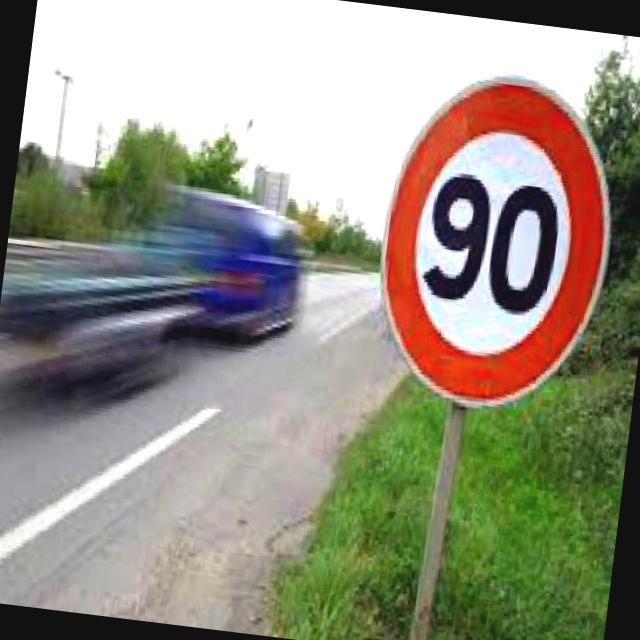Ograniczenie predkosci do 90: (364, 62, 622, 418)
